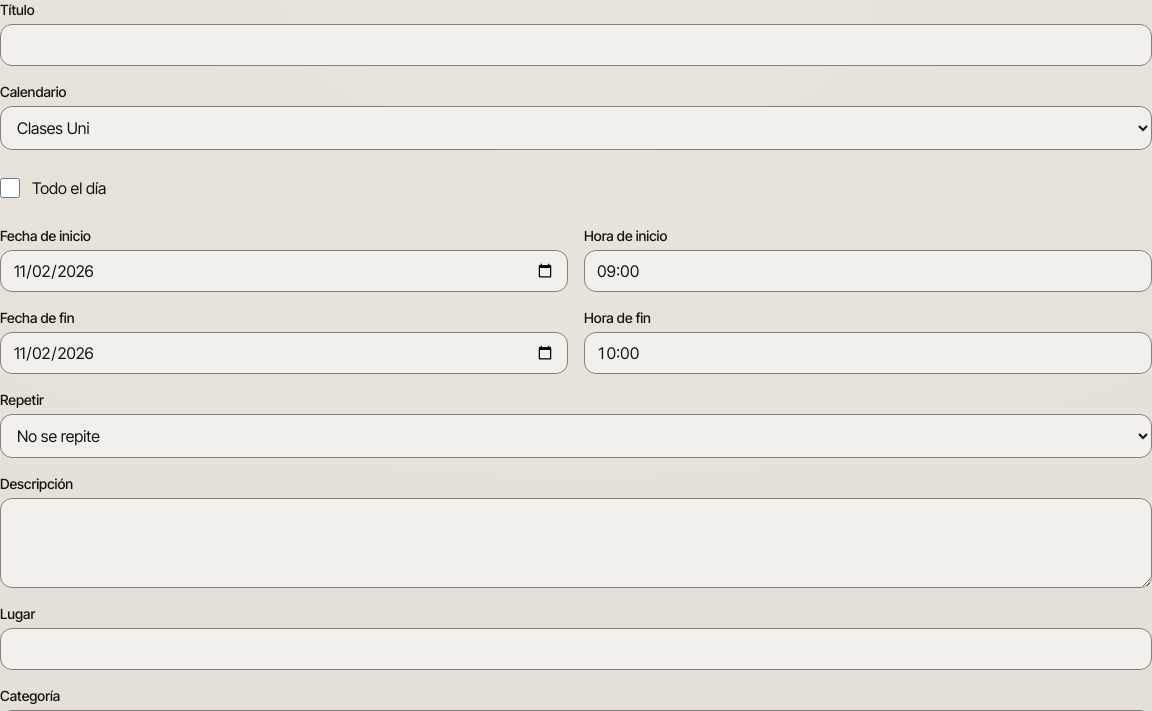
EventForm (RF-15, RF-16) › hides the times for all-day events and shows them again (RF-20)
Click the checkbox labelled "Todo el día": coordinates (10, 188) [0,178,20,198]
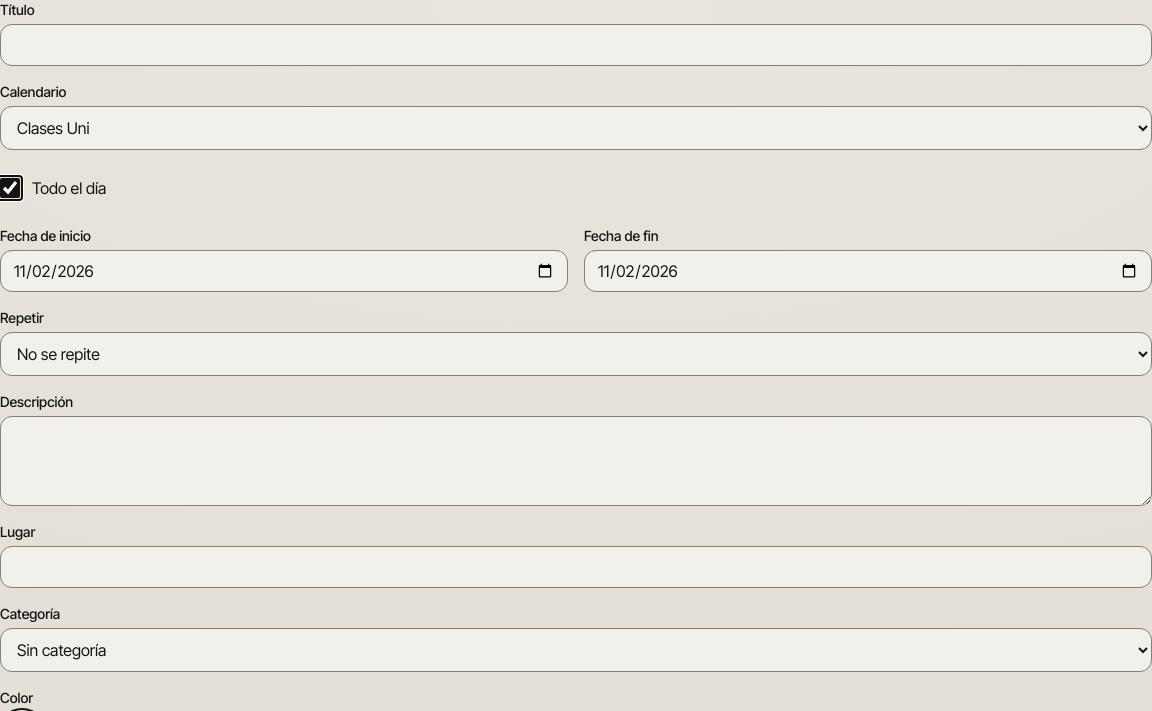
Expected: the date field labelled "Fecha de inicio" is shown, [0,250,568,292]
Expected: the label labelled "Hora de inicio" is gone
Expected: the label labelled "Hora de fin" is gone
Click the checkbox labelled "Todo el día": coordinates (10, 188) [0,178,20,198]
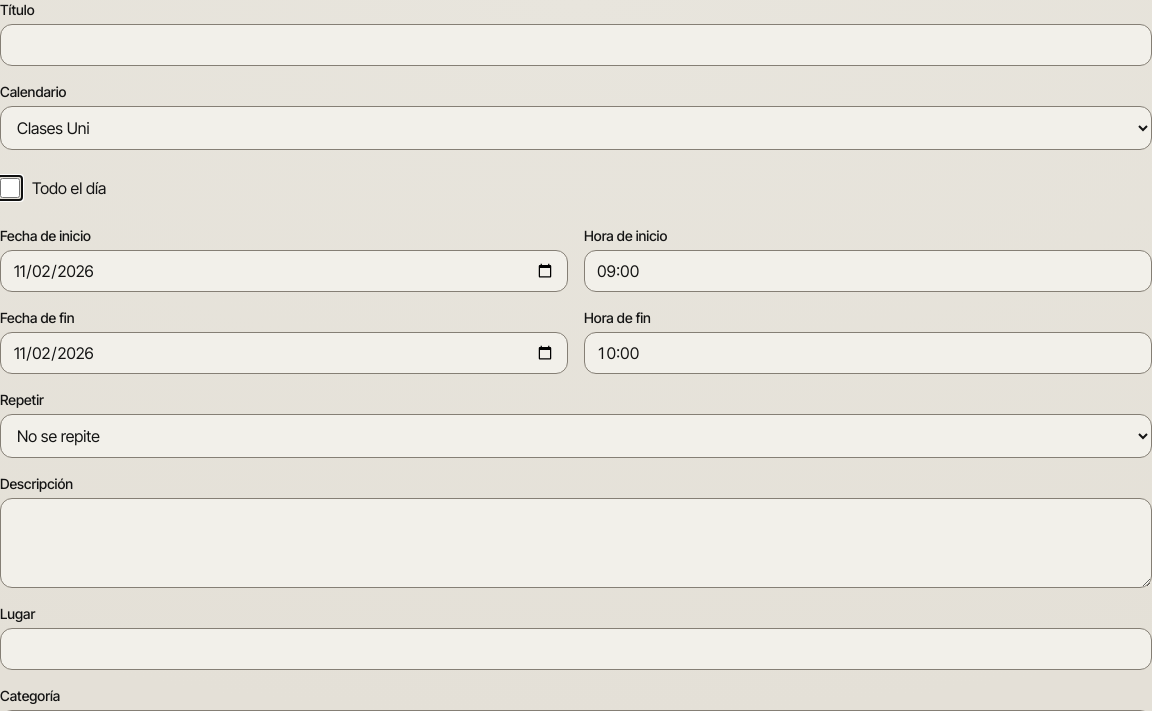
Expected: the dropdown labelled "Hora de inicio" holds "09:00", [584,250,1151,292]
